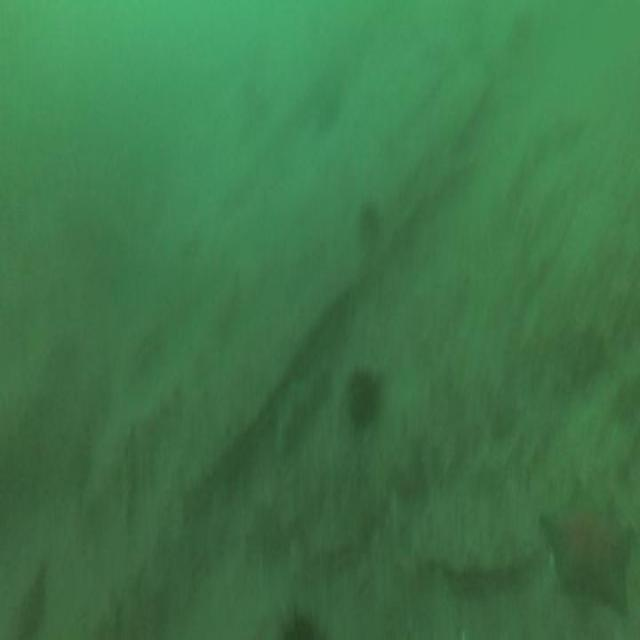echinus: (346, 371, 378, 427), (358, 201, 380, 237)
holothurian: (274, 370, 329, 452)
starfish: (540, 484, 634, 613)
